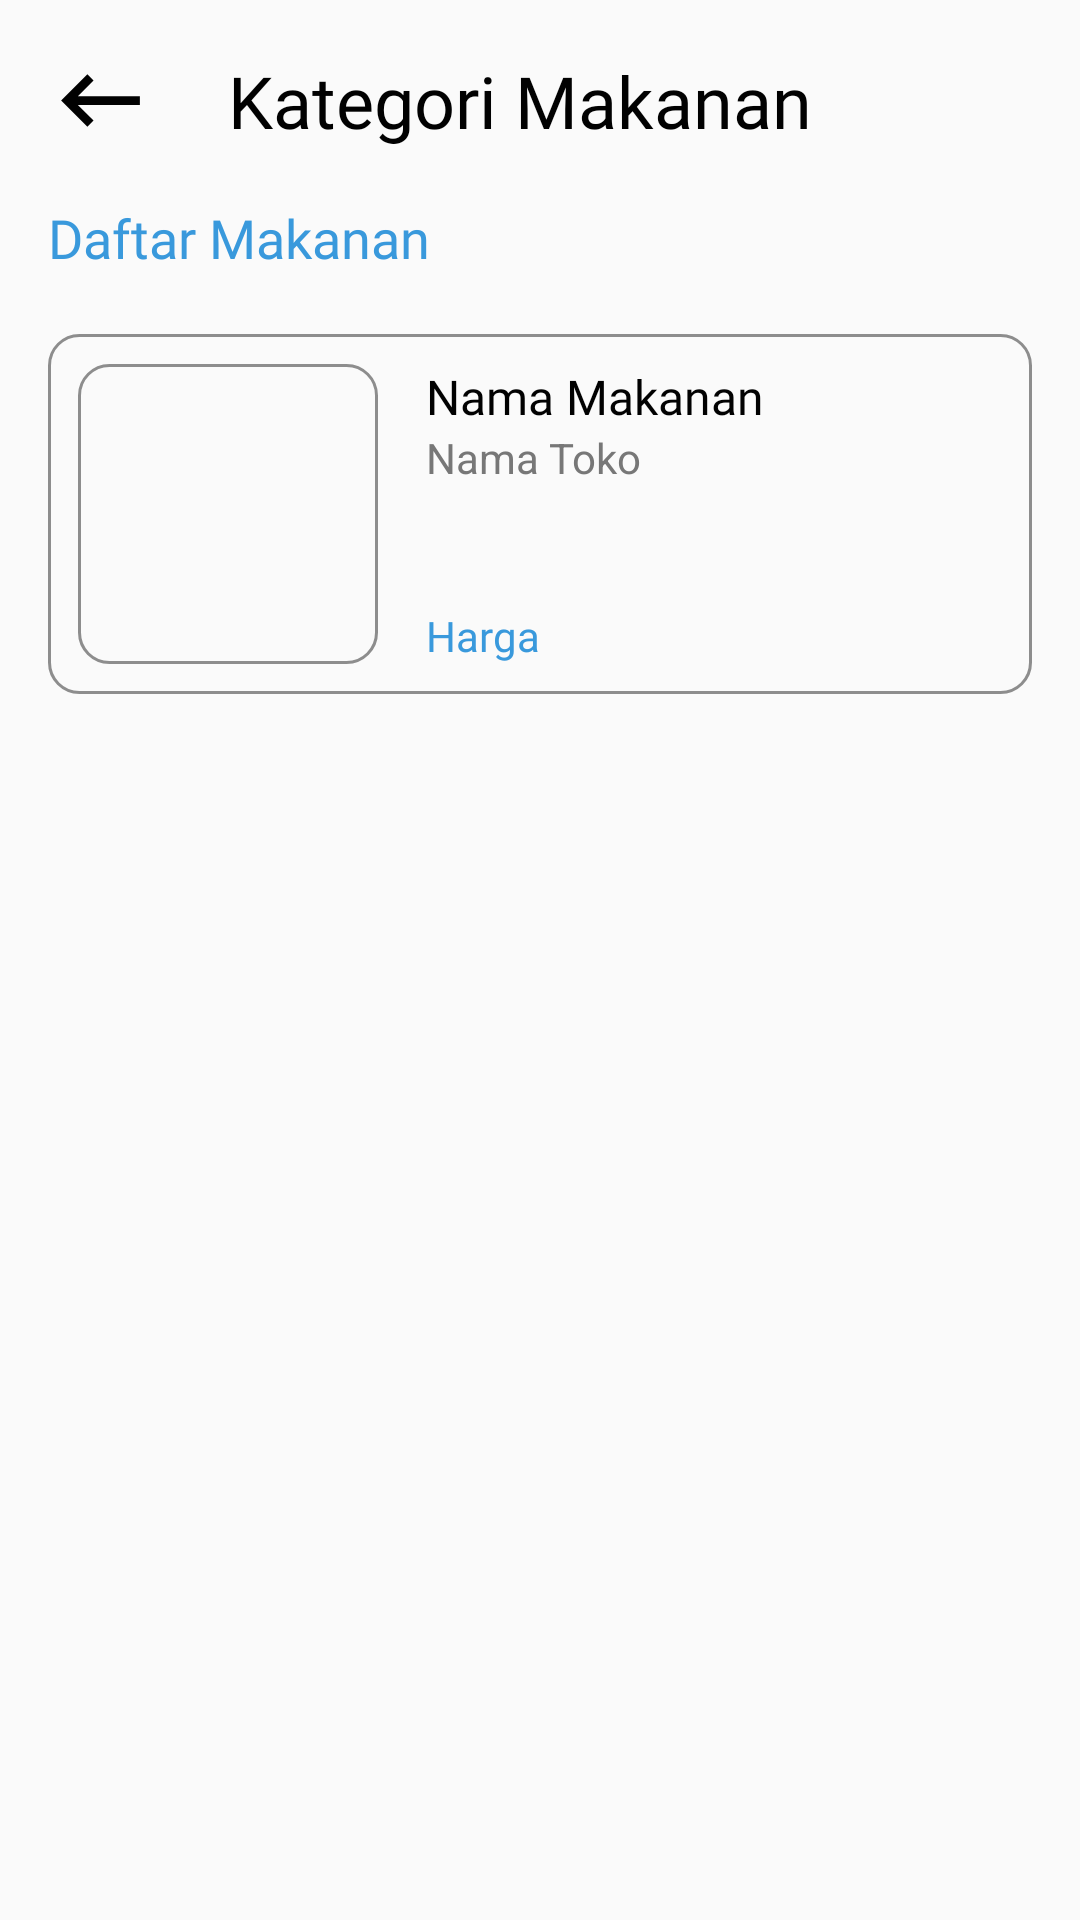

Locate icon controls on the screen. Image size 1080x1920, boxes as box=[x1, y1, x2, y2].
keyboard backspace: box=[61, 74, 140, 127]
